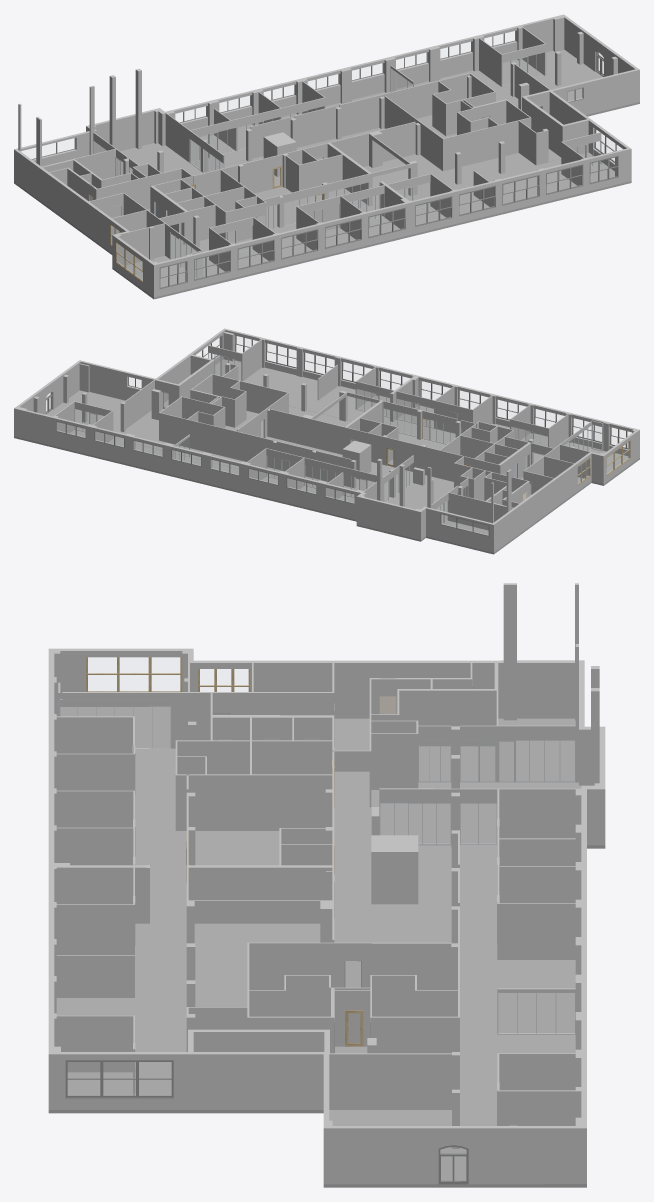
3 views of the same model, one above another, from view 1: azimuth 30°, elevation 25°; view 2: azimuth 150°, elevation 25°; view 3: azimuth 270°, elevation 25° (orthographic). The views are drawn at different scales.
Visible parts, largest first — view 1: Model-Paint - Light Gray (×2), Model-Concrete - 02 (×3), Model-Paint - Dark Gray (×3), Model-Metal - Aluminium (×2); view 2: Model-Paint - Light Gray (×2), Model-Concrete - 02 (×3), Model-Paint - Dark Gray (×3), Model-Metal - Aluminium (×2); view 3: Model-Paint - Light Gray, Model-Concrete - 02 (×3), Model-Metal - Aluminium.
Boxes of the visible parts, x1,y1,x2,y2 form: Model-Paint - Light Gray (×2): (14,14,639,297); Model-Concrete - 02 (×3): (14,49,639,299); Model-Paint - Dark Gray (×3): (56,30,618,289); Model-Metal - Aluminium (×2): (93,52,600,278); Model-Paint - Light Gray (×2): (14,328,639,552); Model-Concrete - 02 (×3): (14,359,639,554); Model-Paint - Dark Gray (×3): (46,335,628,536); Model-Metal - Aluminium (×2): (74,352,602,519); Model-Paint - Light Gray: (48,583,605,1184); Model-Concrete - 02 (×3): (48,706,605,1187); Model-Metal - Aluminium: (58,700,575,1033).
Bounding box in the file's own units: 60.75 × 8.2 × 29.79.
Materials: 12 (1 with a texture image).
